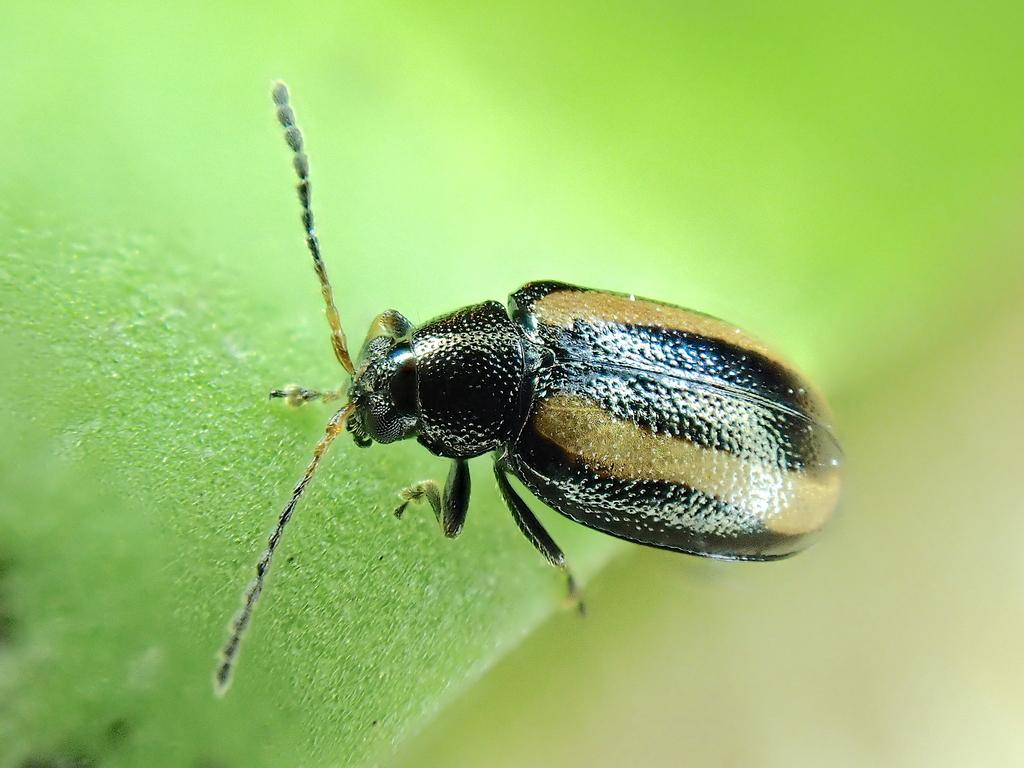flea_beetle: (161, 37, 1022, 768)
